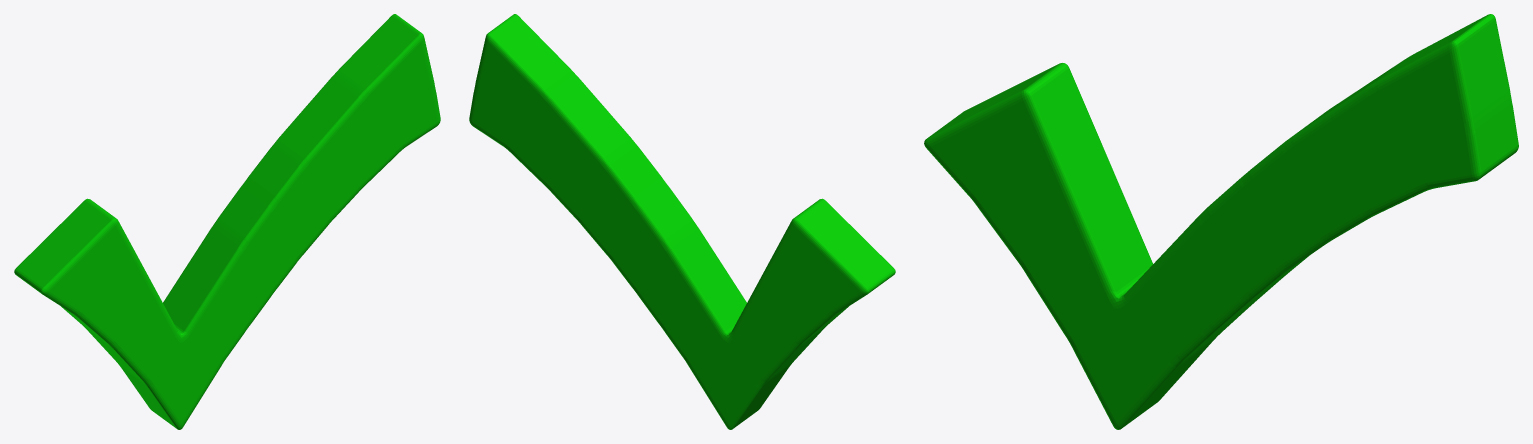
Rendered from checkmark.fbx.
3 renders of one model, left to right at view 1: azimuth 30°, elevation 25°; view 2: azimuth 150°, elevation 25°; view 3: azimuth 330°, elevation 25°, orthographic. The views are drawn at different scales.
Parts seen in each view (by area): view 1: o Cube; view 2: o Cube; view 3: o Cube.
Boxes of the visible parts, left/top/right/bottom form: o Cube: left=14, top=14, right=440, bottom=429; o Cube: left=469, top=14, right=895, bottom=429; o Cube: left=924, top=14, right=1518, bottom=429.
Size of the model in its own units: 8.61 by 6.95 by 1.12.
